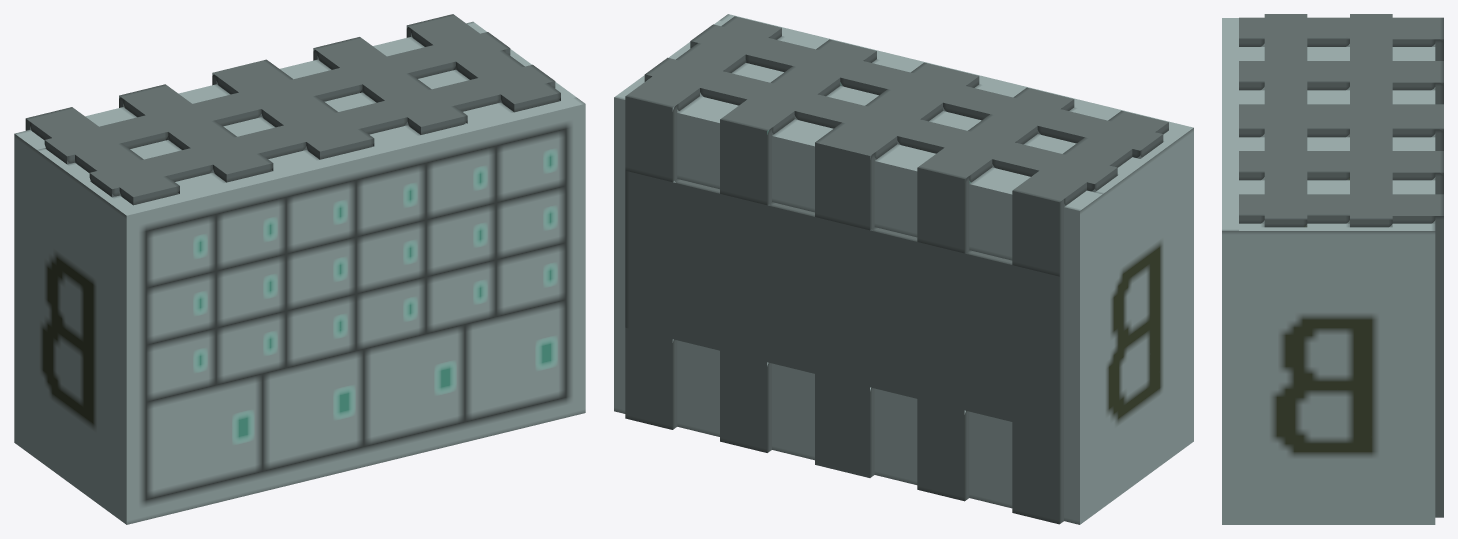
File: skrytki.dae
3 views of the same model, side by side, from view 1: azimuth 30°, elevation 25°; view 2: azimuth 150°, elevation 25°; view 3: azimuth 270°, elevation 25° (orthographic). The views are drawn at different scales.
Visible parts, largest first — view 1: Content; view 2: Content; view 3: Content.
Part boxes in pixels (x1=…): Content: x1=14, y1=14, x2=585, y2=524; Content: x1=614, y1=14, x2=1193, y2=524; Content: x1=1222, y1=14, x2=1443, y2=524.
Bounding box in the file's own units: 59 × 39 × 26.
Materials: 1 (1 with a texture image).
